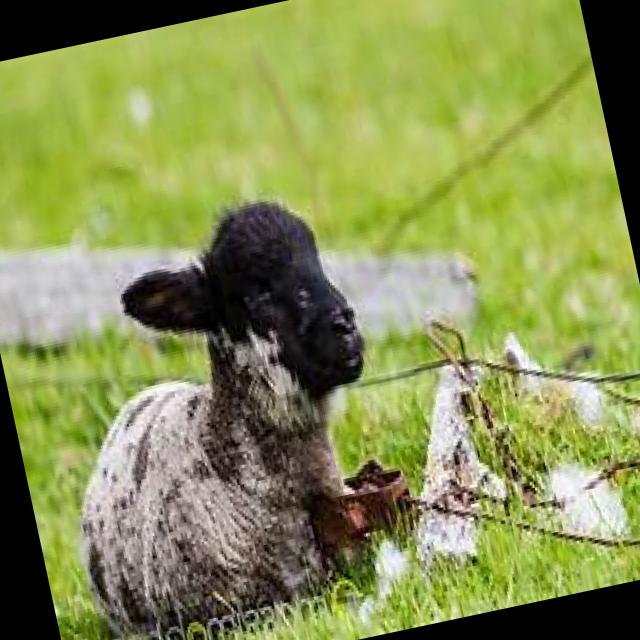animal: (5, 157, 426, 640)
